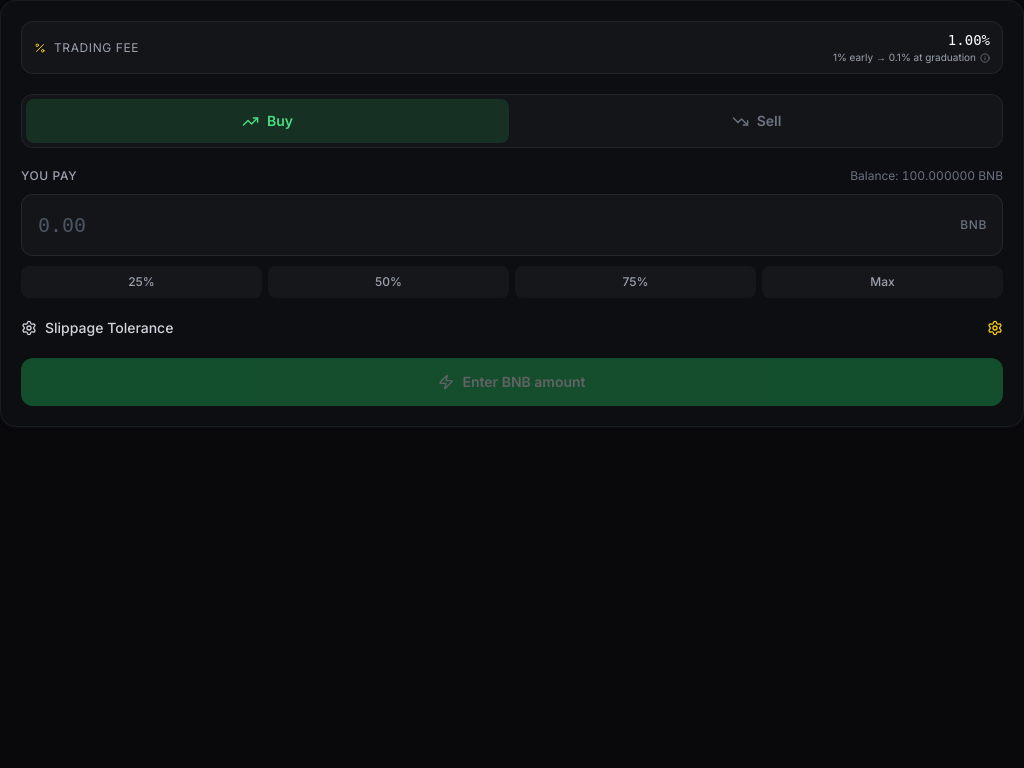
Scenario: TradingInterface › Quick Amount Presets › should set 100% of balance when clicking Max button
What coordinates should you click on to do the following:
click the button "Max"
I would click on:
 (882, 282)
Its box is x1=762 y1=266 x2=1003 y2=298.
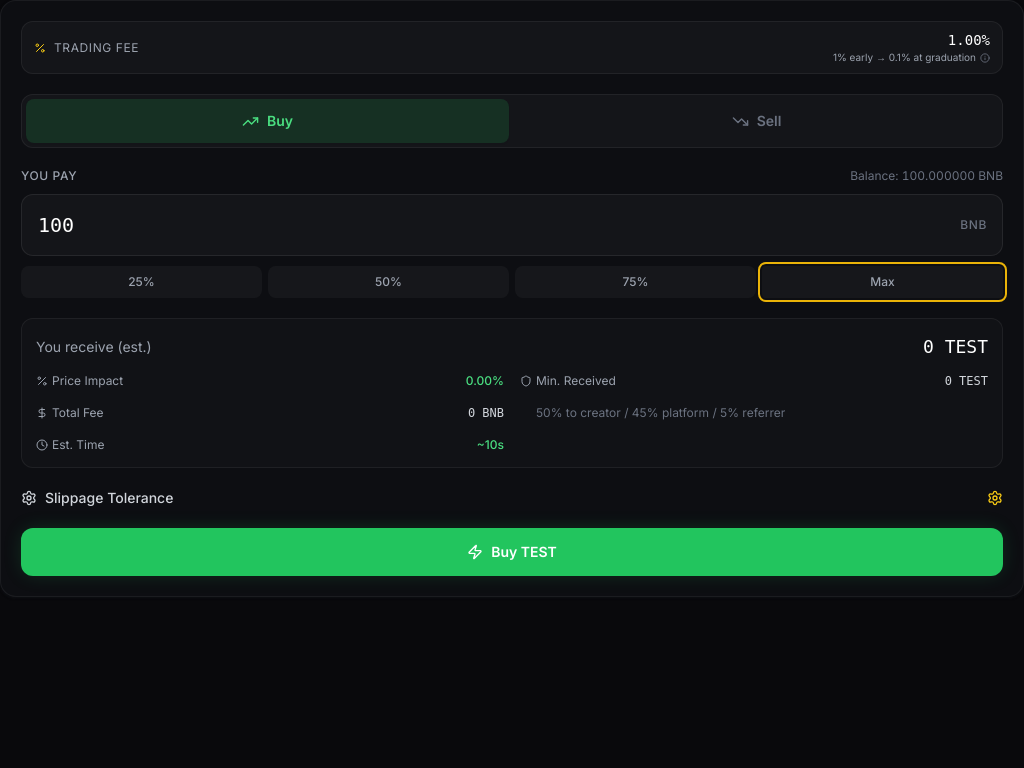
Check: the number field with placeholder "0.00" holds "100", box x1=21 y1=194 x2=1003 y2=256
